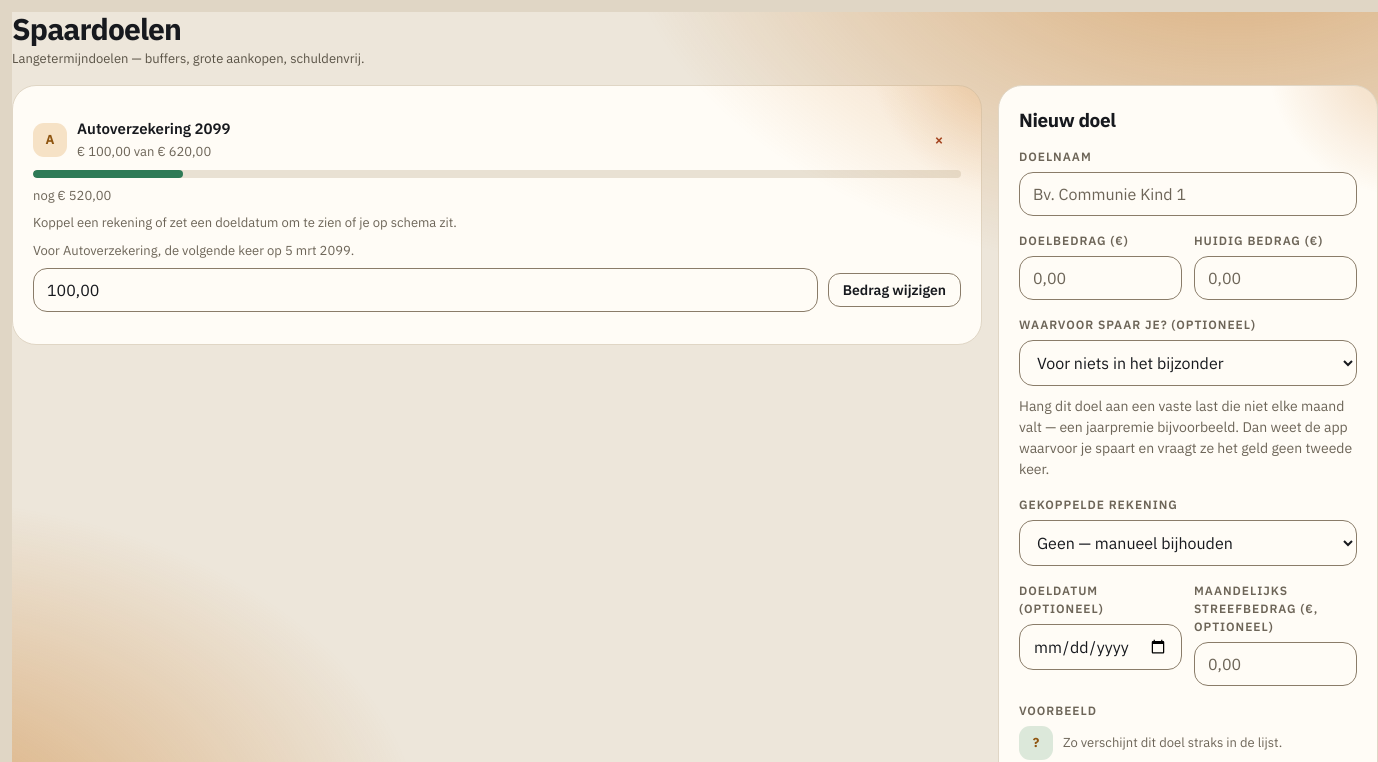
it: SpaardoelSectie — de koppeling bij het bewerken (ronde 74, doorlichting) › toont de gekoppelde kost ook in de keuzelijst
The width and height of the screenshot is (1378, 762).
Click the button with aria-label "Bewerk doel Autoverzekering 2099" at (154, 128), box [77,118,907,162]
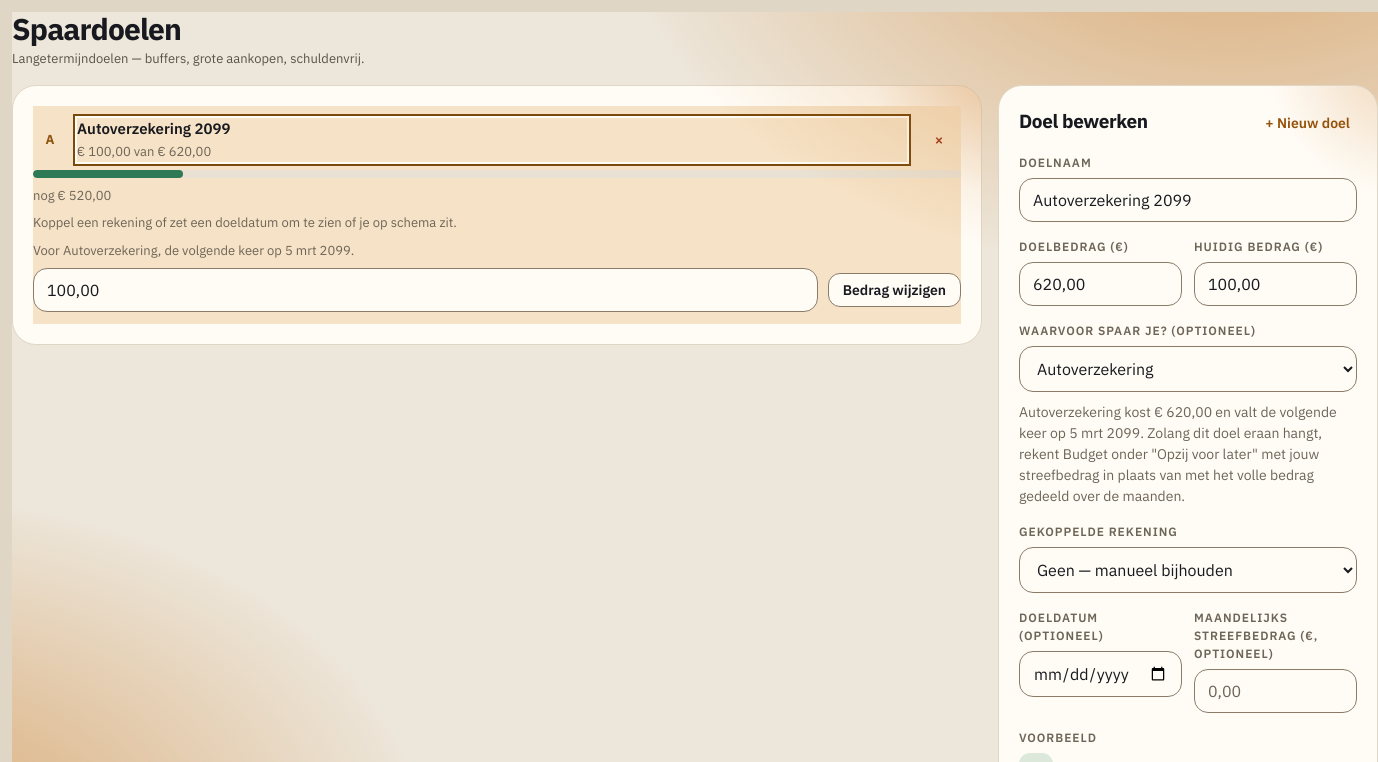
Check: the dropdown labelled "Waarvoor spaar je? (optioneel)" shows "Autoverzekering", box [1019,346,1357,392]
